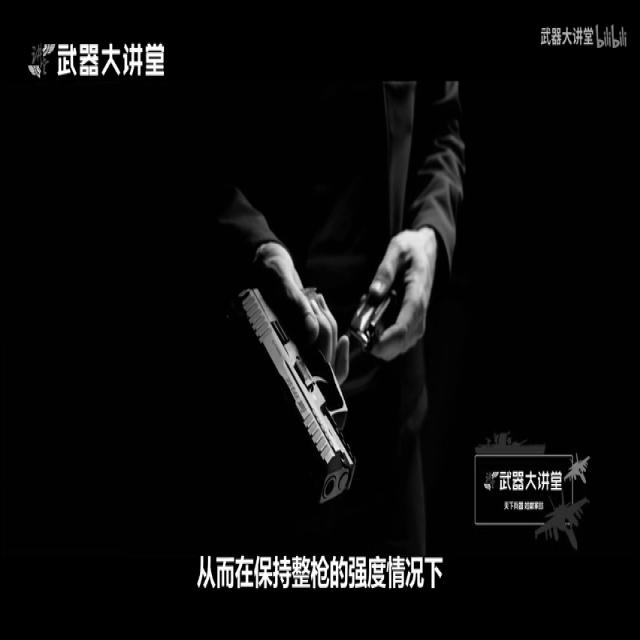Hand-Gun: (220, 223, 364, 549)
